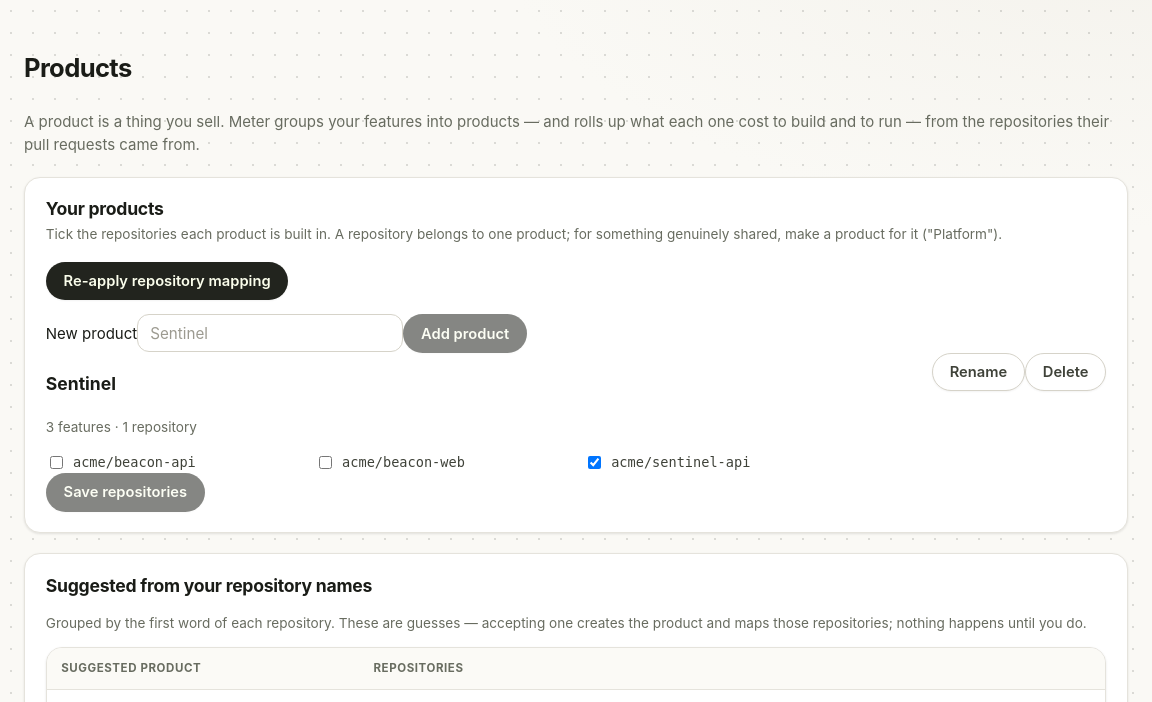
Test: Products › maps repositories to a product and reports what that reassigned
Expected: the heading "Sentinel" is shown, [46,373,116,394]
Click the checkbox labelled "acme/beacon-api" at (56, 462), box [50,456,63,469]
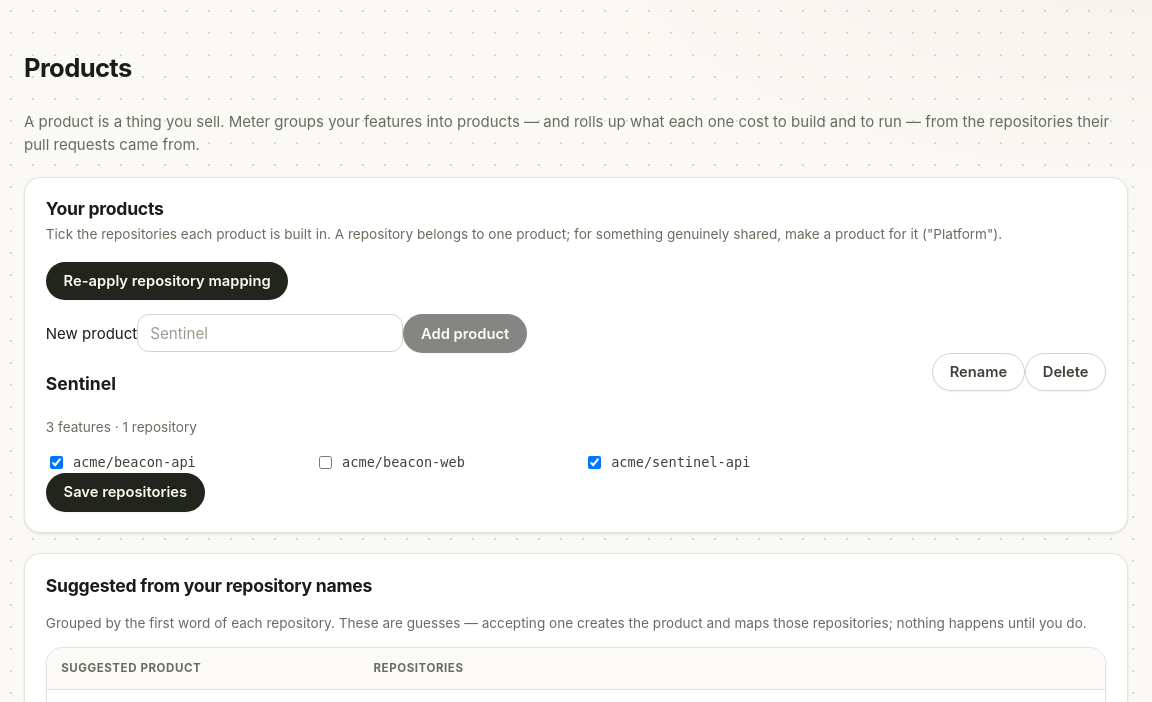
Click the button "Save repositories" at (125, 492), box [46,473,205,512]
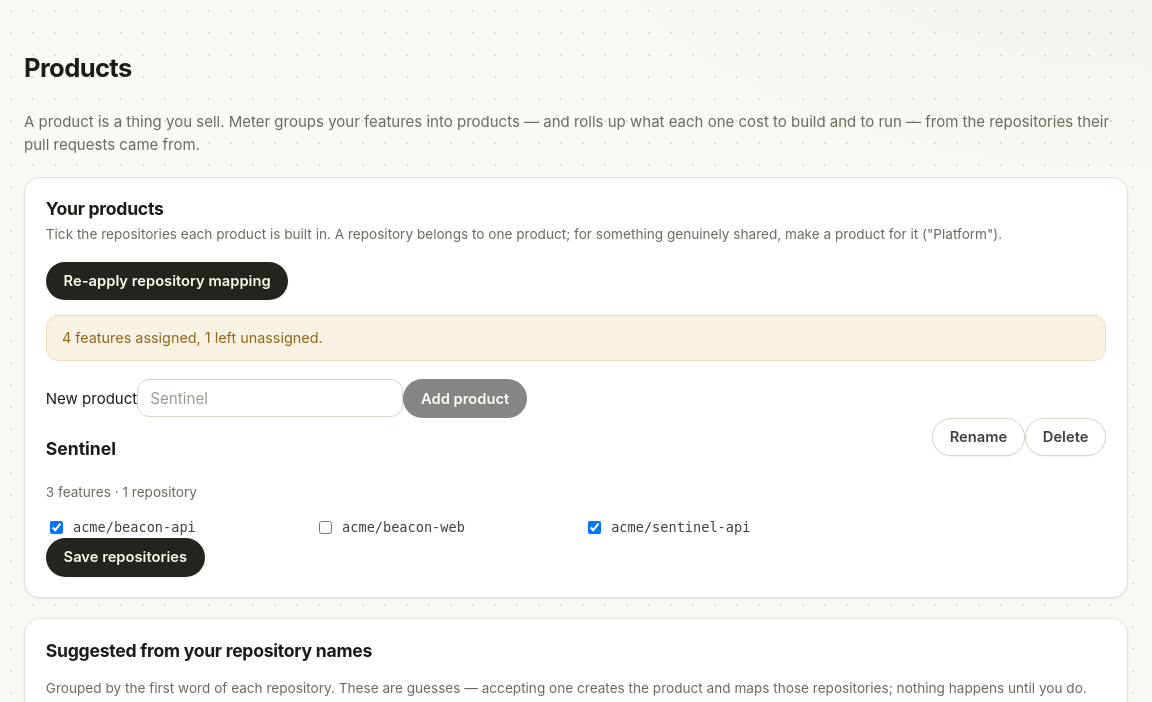
Result: the text "4 features assigned, 1 left unassigned." is shown at [46,315,1106,361]
